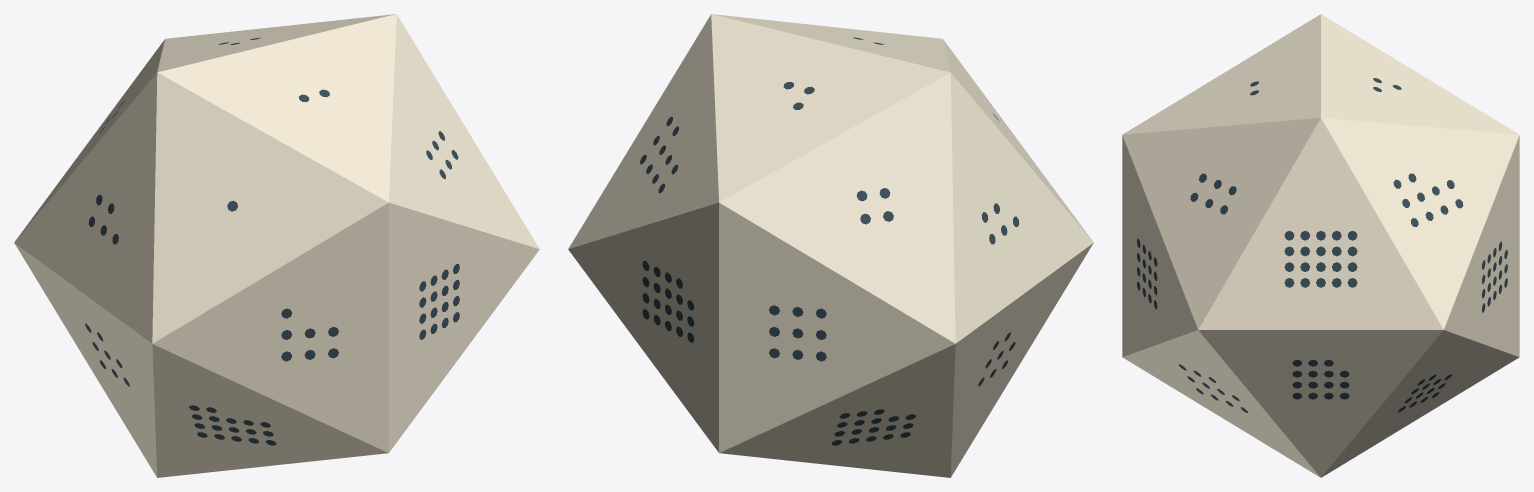
File: tabletop-game-components-d20-icosahedron-c5214a6a__20843.glb
The picture shows the model from 3 angles, left to right: view 1: azimuth 30°, elevation 25°; view 2: azimuth 150°, elevation 25°; view 3: azimuth 270°, elevation 25°; orthographic projection. The views are drawn at different scales.
Parts seen in each view (by area): view 1: d20-icosahedron; view 2: d20-icosahedron; view 3: d20-icosahedron.
Boxes of the visible parts, left/top/right/bottom form: d20-icosahedron: left=14, top=14, right=539, bottom=477; d20-icosahedron: left=568, top=14, right=1093, bottom=477; d20-icosahedron: left=1122, top=14, right=1519, bottom=477.
Bounding box in the file's own units: 0.034 × 0.034 × 0.034.
